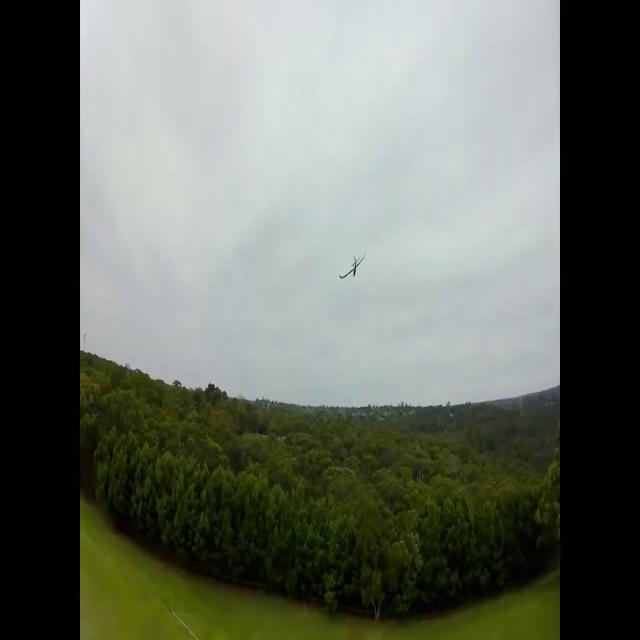iha: (337, 249, 367, 275)
